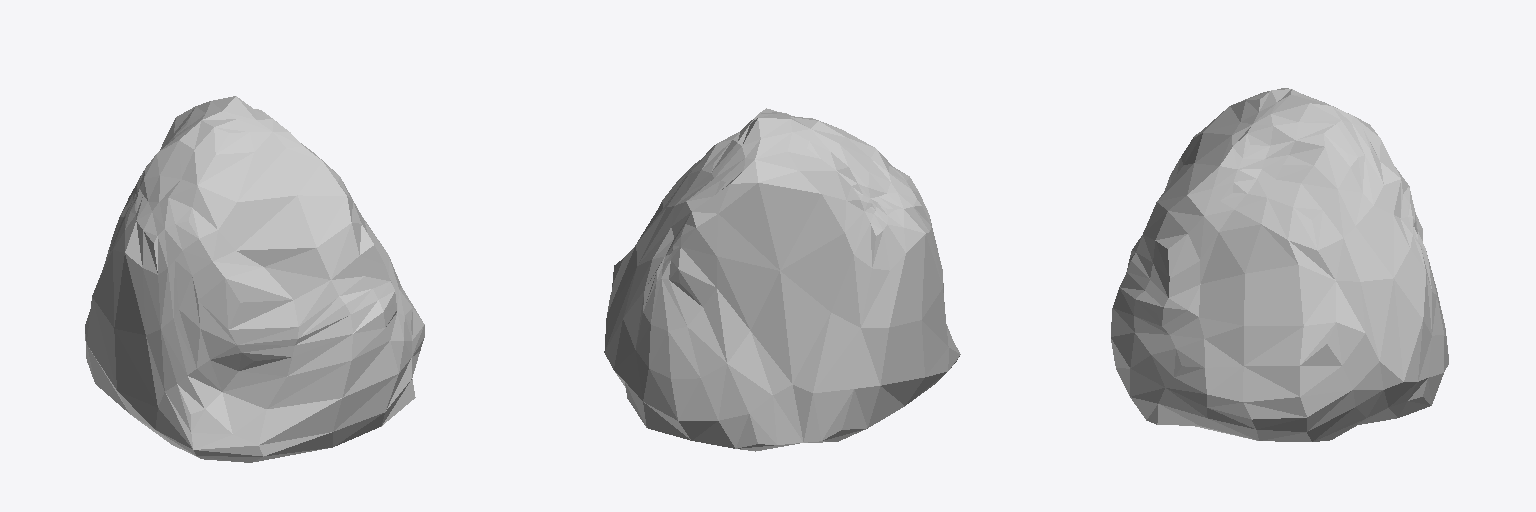
Rendered from Rock_01_Hite.OBJ.
3 views of the same model, side by side, from view 1: azimuth 30°, elevation 25°; view 2: azimuth 150°, elevation 25°; view 3: azimuth 270°, elevation 25° (orthographic).
Visible parts, largest first — view 1: Group2; view 2: Group2; view 3: Group2.
Part boxes in pixels (bbox=[...]): Group2: bbox=[85, 96, 424, 462]; Group2: bbox=[604, 108, 960, 451]; Group2: bbox=[1111, 88, 1448, 441].
Bounding box in the file's own units: 8.19 × 7.95 × 8.12.